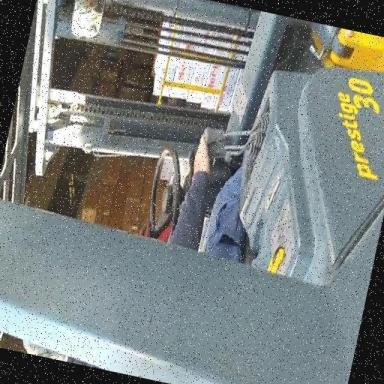forklift: (0, 0, 384, 379)
